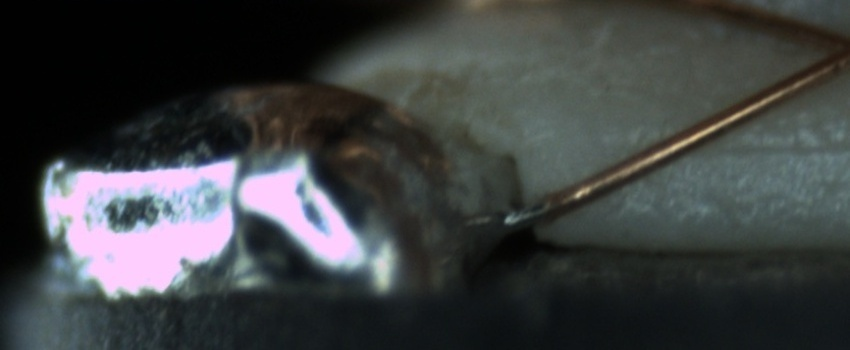CL: (802, 13, 850, 81)
DL: (624, 114, 849, 173)
TS: (493, 197, 548, 229)
